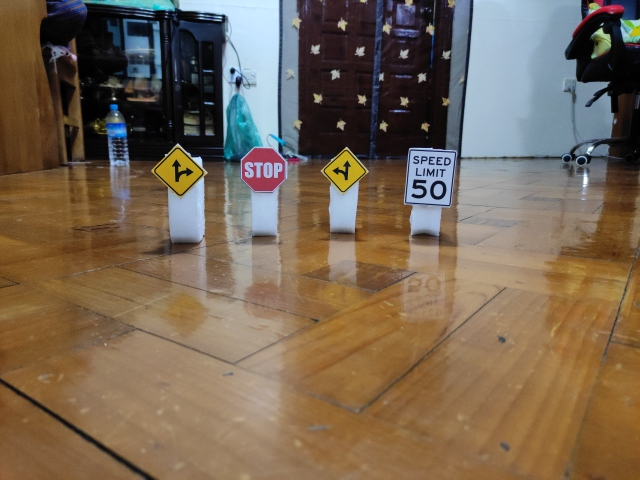Speed Limit 50: (404, 149, 457, 206)
Stop Sign: (241, 146, 289, 194)
Straight Or Left Sign: (323, 148, 369, 194)
Straight Or Right Sign: (150, 144, 207, 199)
